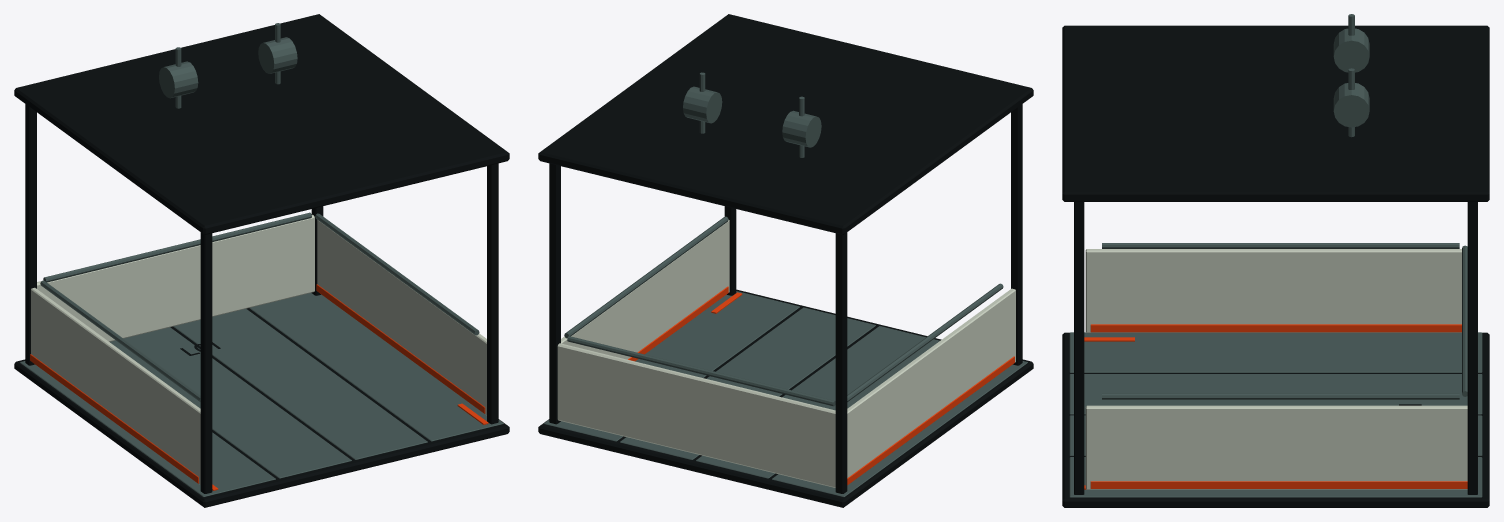
The model's file is SM_MP_Station_LiftCab.fbx.
The picture shows the model from 3 angles, left to right: view 1: azimuth 30°, elevation 25°; view 2: azimuth 150°, elevation 25°; view 3: azimuth 270°, elevation 25°; orthographic projection. The views are drawn at different scales.
Visible parts, largest first — view 1: SM_MP_Station_LiftCab; view 2: SM_MP_Station_LiftCab; view 3: SM_MP_Station_LiftCab.
Boxes of the visible parts, x1,y1,x2,y2 form: SM_MP_Station_LiftCab: (14,14,509,507); SM_MP_Station_LiftCab: (538,14,1033,507); SM_MP_Station_LiftCab: (1062,14,1489,507).
Size of the model in its own units: 420 by 452 by 446.
Materials: 1 (1 with a texture image).
